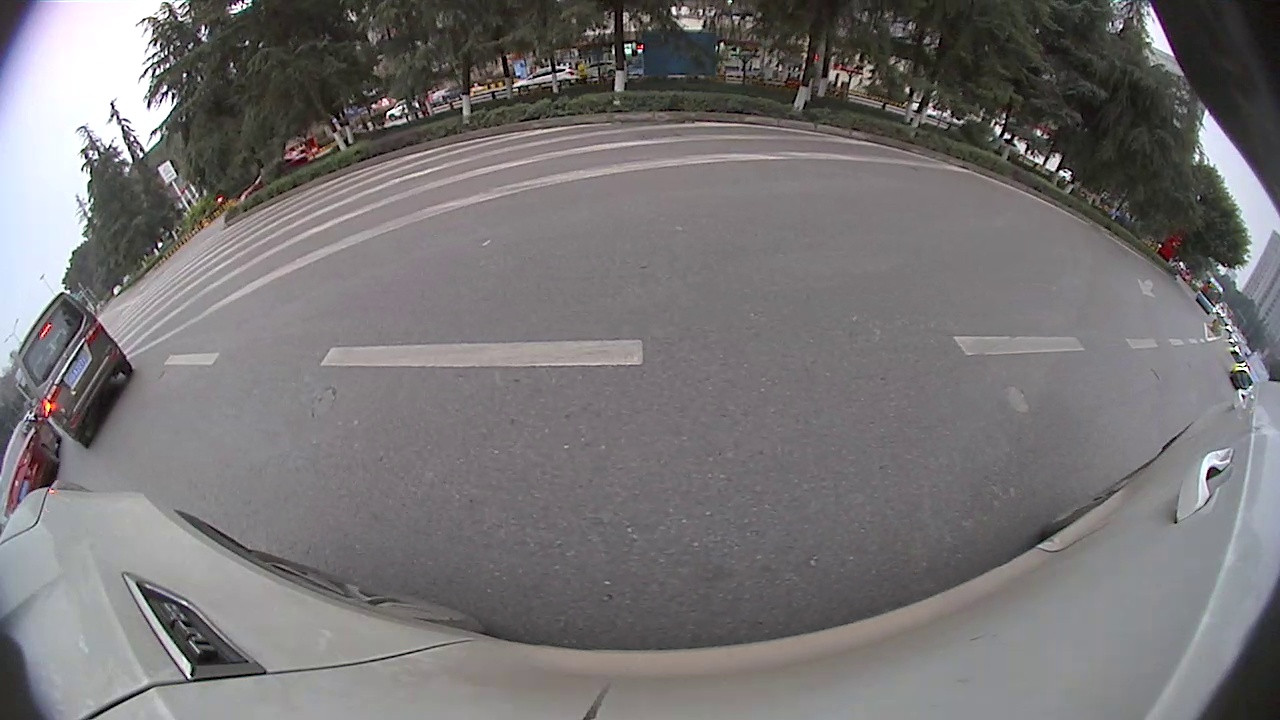bus: (1195, 271, 1227, 315)
car: (15, 290, 137, 448), (1, 407, 63, 523), (1228, 344, 1274, 395)
